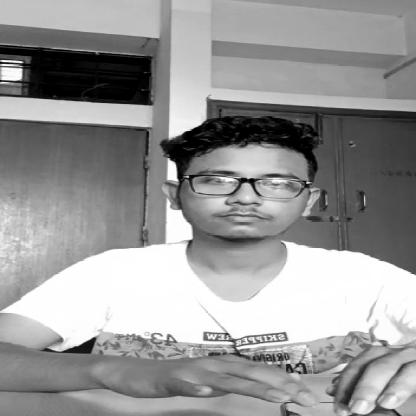Normal: (164, 122, 327, 244)
